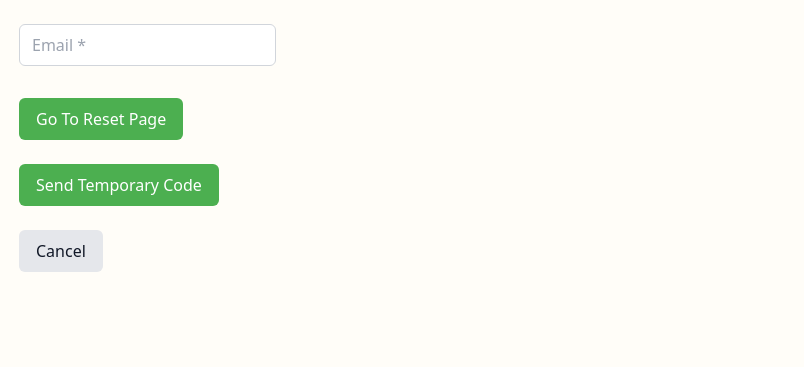
ForgotPasswordForm › dismisses an alert and clears message
Click the button "Send Temporary Code".
click(119, 185)  # box x1=19 y1=164 x2=219 y2=206
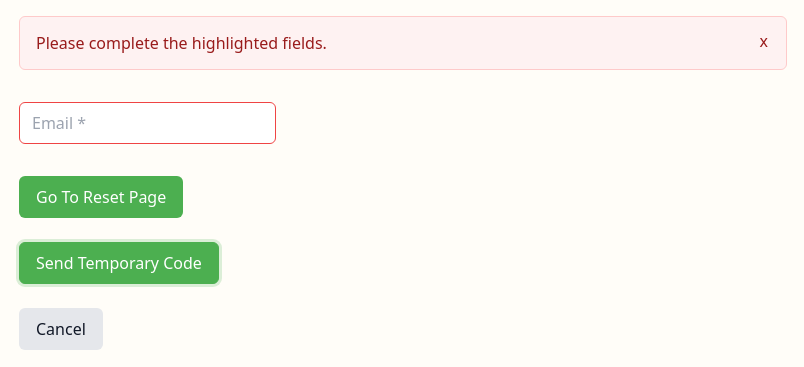
Click the button named "dismiss alert".
click(764, 41)  # box x1=758 y1=31 x2=770 y2=51
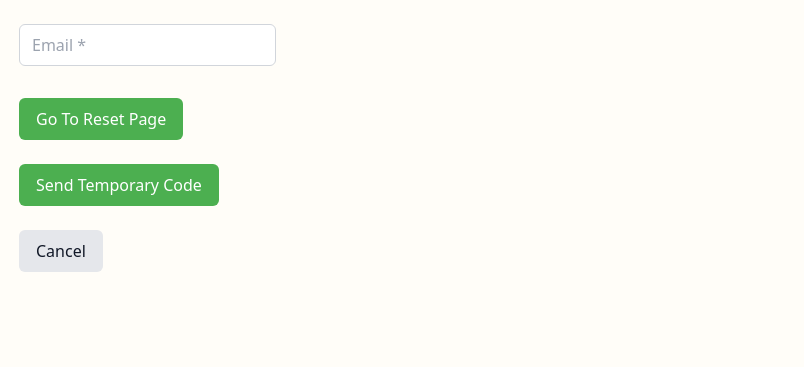
Expected: the message "Please complete the highlighted fields. x" is gone
